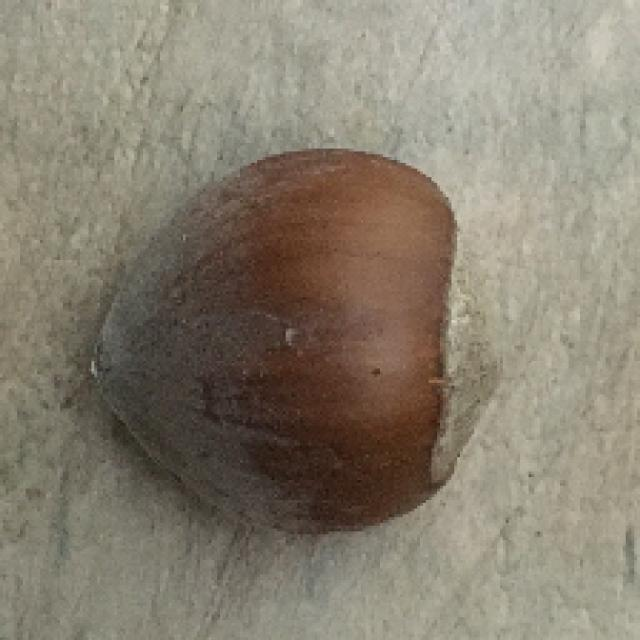QualityHazelnut: (91, 146, 504, 534)
